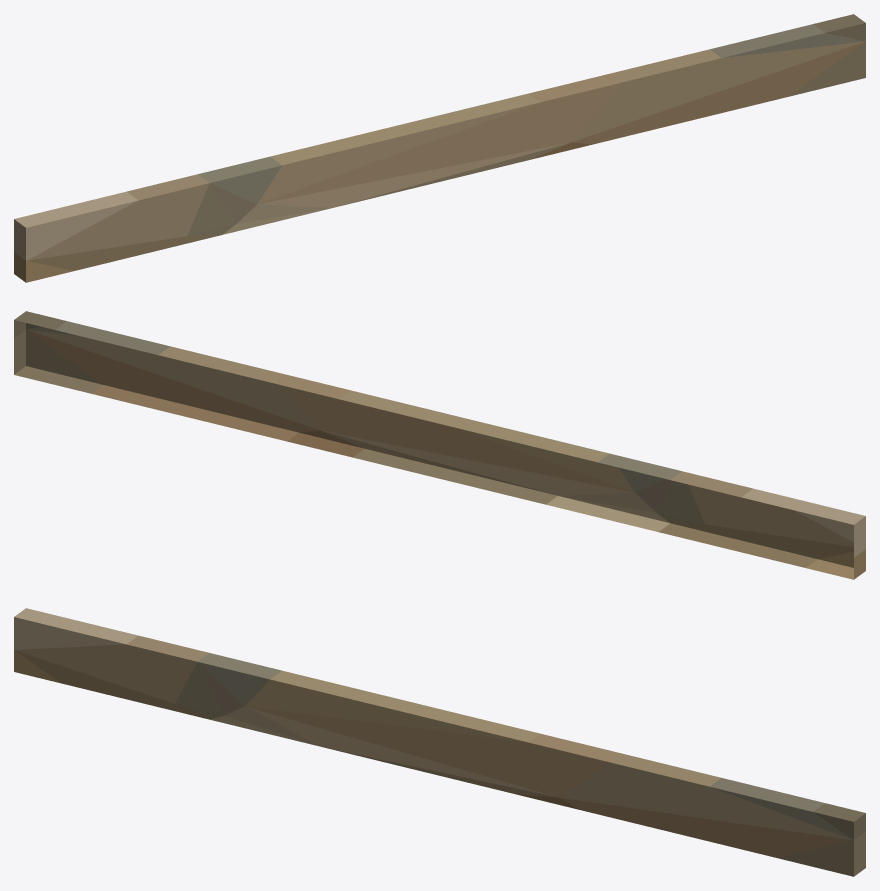
Rendered from Prop_UG-WoodD.fbx.
3 views of the same model, one above another, from view 1: azimuth 30°, elevation 25°; view 2: azimuth 150°, elevation 25°; view 3: azimuth 330°, elevation 25° (orthographic).
Parts seen in each view (by area): view 1: Prop_UG-WoodD; view 2: Prop_UG-WoodD; view 3: Prop_UG-WoodD.
Part boxes in pixels (x1,y1,x2,y2): Prop_UG-WoodD: (14, 14, 865, 282); Prop_UG-WoodD: (14, 311, 865, 579); Prop_UG-WoodD: (14, 608, 865, 876).
Bounding box in the file's own units: 400 × 25 × 10.
